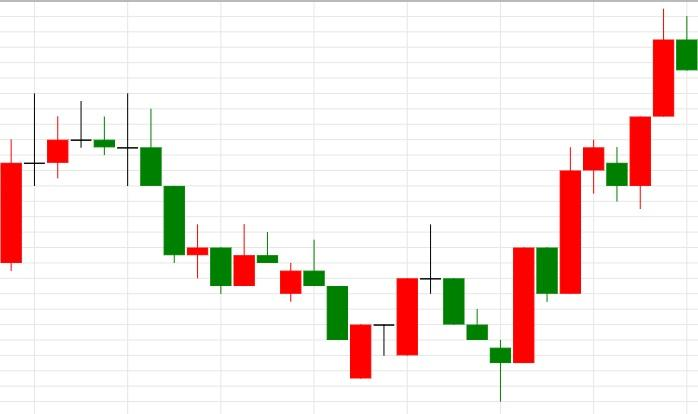evening_star_fall: (0, 93, 116, 271), (349, 224, 465, 379)
three_black_crows_fall: (349, 223, 512, 402)
